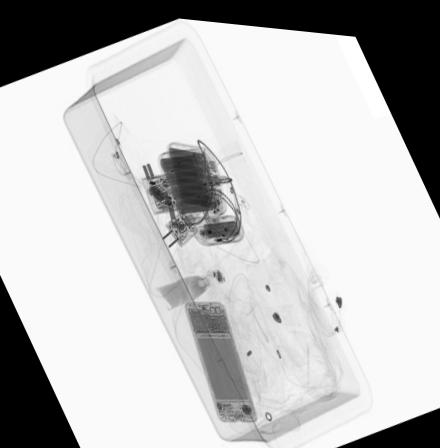Powerbank: (155, 150, 214, 216)
